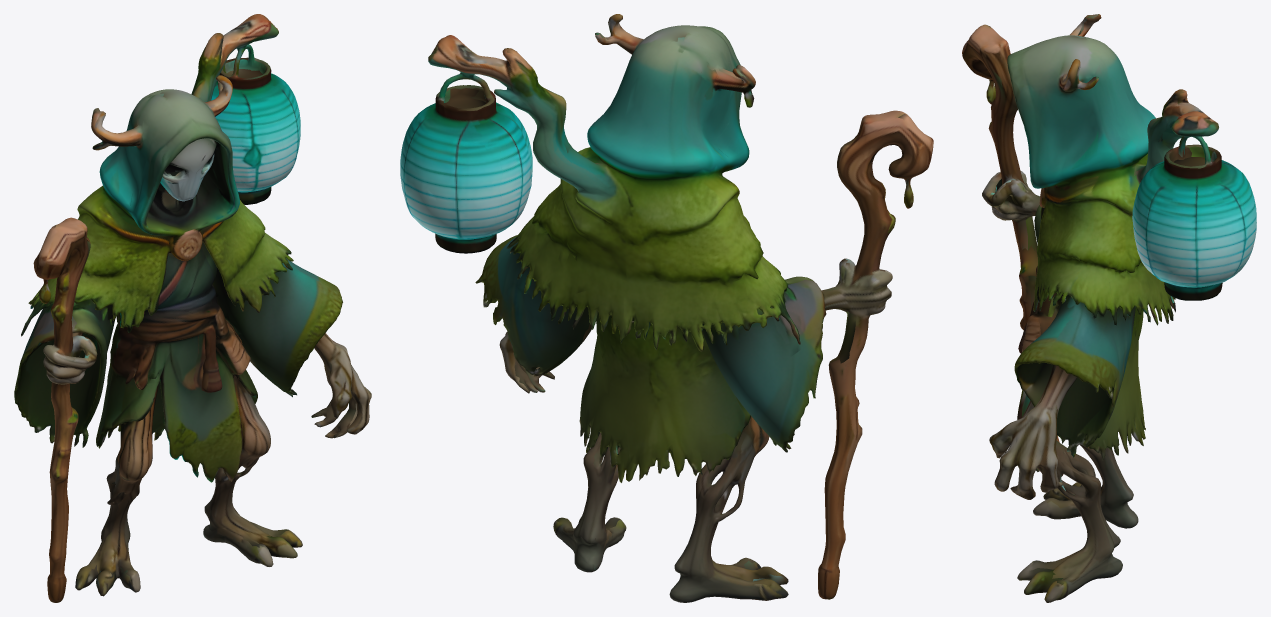
Rendered from kodama.glb.
The picture shows the model from 3 angles, left to right: view 1: azimuth 30°, elevation 25°; view 2: azimuth 150°, elevation 25°; view 3: azimuth 270°, elevation 25°; orthographic projection. The views are drawn at different scales.
Parts seen in each view (by area): view 1: texture_pbr_v128; view 2: texture_pbr_v128; view 3: texture_pbr_v128.
Boxes of the visible parts, x1,y1,x2,y2 form: texture_pbr_v128: (14, 14, 371, 602); texture_pbr_v128: (400, 14, 933, 602); texture_pbr_v128: (962, 14, 1256, 602).
Size of the model in its own units: 0.7693 by 0.9885 by 0.5172.
1 material, 1 textured.
